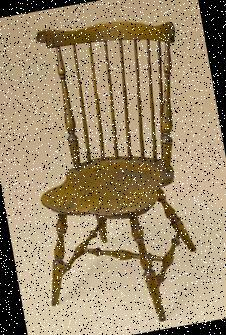Silla: (3, 8, 225, 334)
